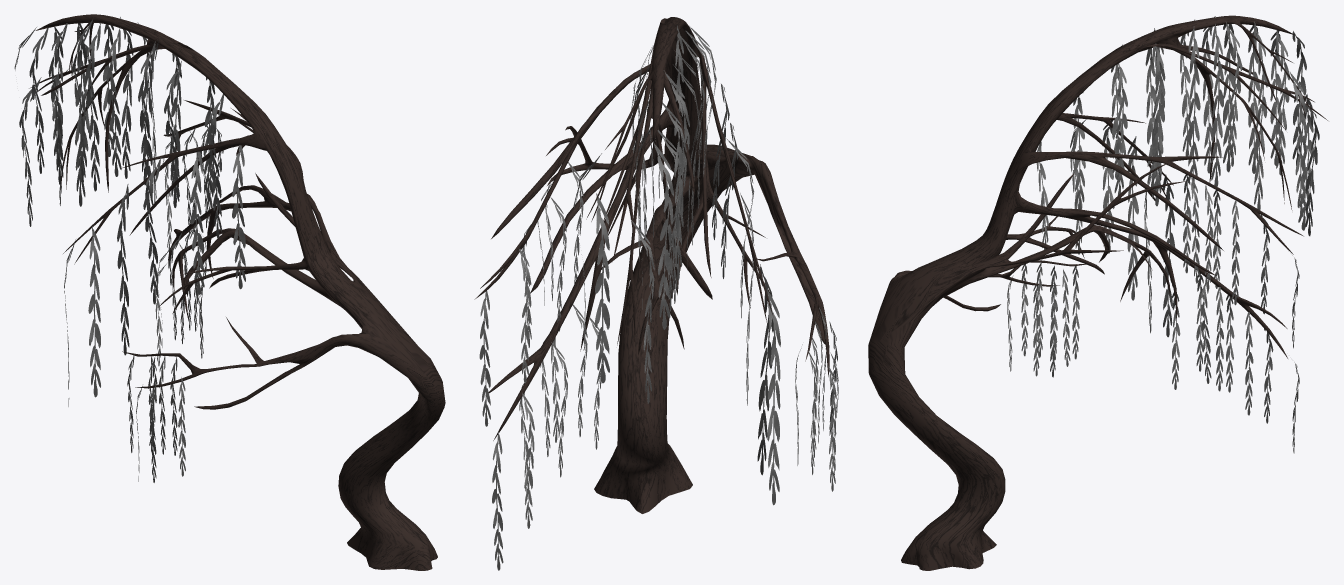
File: yanagi.fbx
The picture shows the model from 3 angles, left to right: view 1: azimuth 30°, elevation 25°; view 2: azimuth 150°, elevation 25°; view 3: azimuth 270°, elevation 25°; orthographic projection. The views are drawn at different scales.
Visible parts, largest first — view 1: tree_geo, pasted__pCube261, pCube254, pCube274, pCube273, pCube259, pCube269, pCube255, pCube256, pCube258, pCube250, pCube267 (+9 smaller); view 2: tree_geo, pCube251, pCube260, pCube249, pasted__pCube261, pCube247, pCube253, pCube294, pCube277, pCube271, pCube276, pCube293 (+12 smaller); view 3: tree_geo, pCube267, pCube269, pCube266, pCube265, pCube252, pCube253, pCube264, pCube270, pCube259, pCube250, pCube260 (+11 smaller).
Part boxes in pixels (x1,y1,x2,y2): tree_geo: (29,14,445,570); pasted__pCube261: (88,226,100,397); pCube254: (84,23,100,191); pCube274: (232,145,245,289); pCube273: (190,151,204,294); pCube259: (117,184,129,355); pCube269: (75,23,86,206); pCube255: (106,27,121,176); pCube256: (138,41,155,208); pCube258: (143,157,161,304); pCube250: (48,23,67,184); pCube267: (120,17,133,178); tree_geo: (474,17,829,513); pCube251: (594,193,609,383); pCube260: (767,288,780,505); pCube249: (653,141,673,329); pasted__pCube261: (757,264,773,475); pCube247: (630,218,654,403); pCube253: (664,70,689,280); pCube294: (479,291,490,426); pCube277: (492,432,503,570); pCube271: (674,25,683,240); pCube276: (522,392,534,528); pCube293: (519,249,531,383); tree_geo: (868,15,1327,570); pCube267: (1211,24,1223,186); pCube269: (1254,21,1267,209); pCube266: (1188,26,1200,189); pCube265: (1152,43,1165,206); pCube252: (1289,71,1306,217); pCube253: (1223,24,1235,172); pCube264: (1114,63,1127,195); pCube270: (1276,29,1289,175); pCube259: (1127,136,1138,300); pCube250: (1248,25,1260,173); pCube260: (1163,174,1175,337).
Size of the model in its own units: 154 by 278 by 249.
Materials: 3 (3 with a texture image).
